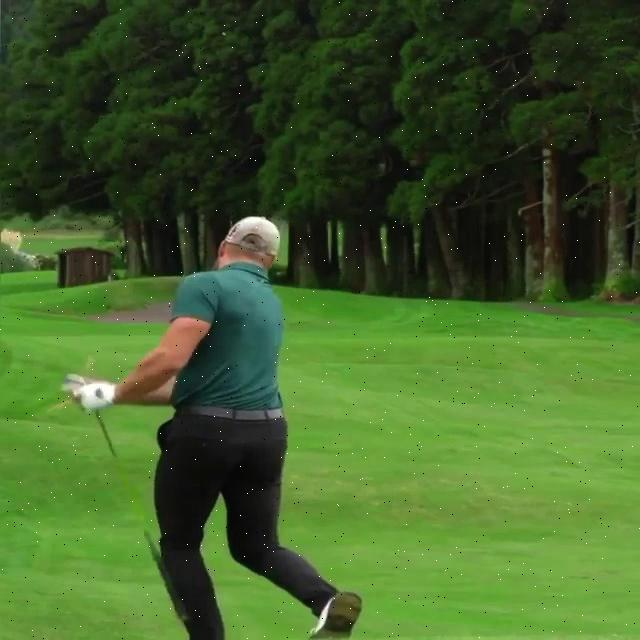golf club-handle: (63, 374, 191, 624)
golf club-head: (63, 372, 87, 390)
